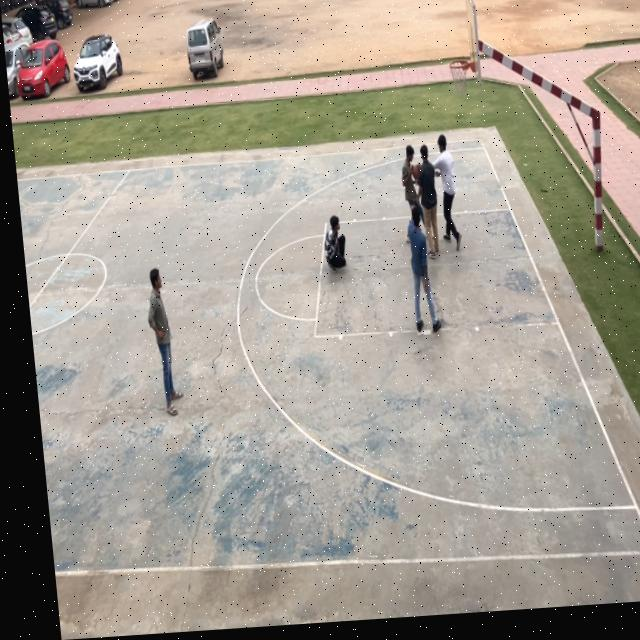basketball: (410, 161, 422, 180)
hoop: (448, 56, 472, 98)
